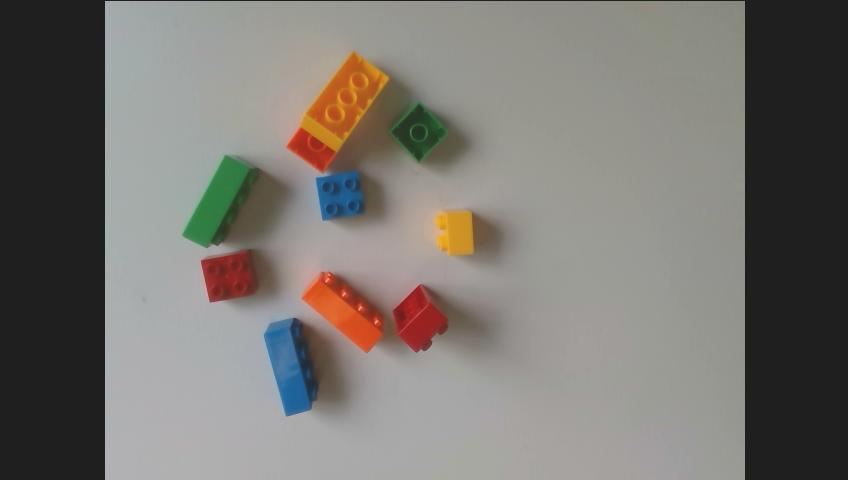2x2_blue: (317, 172, 361, 220)
2x2_green: (389, 103, 448, 165)
2x2_orange: (287, 127, 337, 174)
2x2_red: (201, 248, 257, 303)
2x2_yellow: (436, 213, 472, 255)
4x2_blue: (262, 319, 320, 417)
4x2_green: (182, 156, 255, 246)
4x2_orange: (302, 273, 389, 352)
4x2_red: (392, 285, 452, 352)
4x2_yellow: (300, 54, 389, 151)
